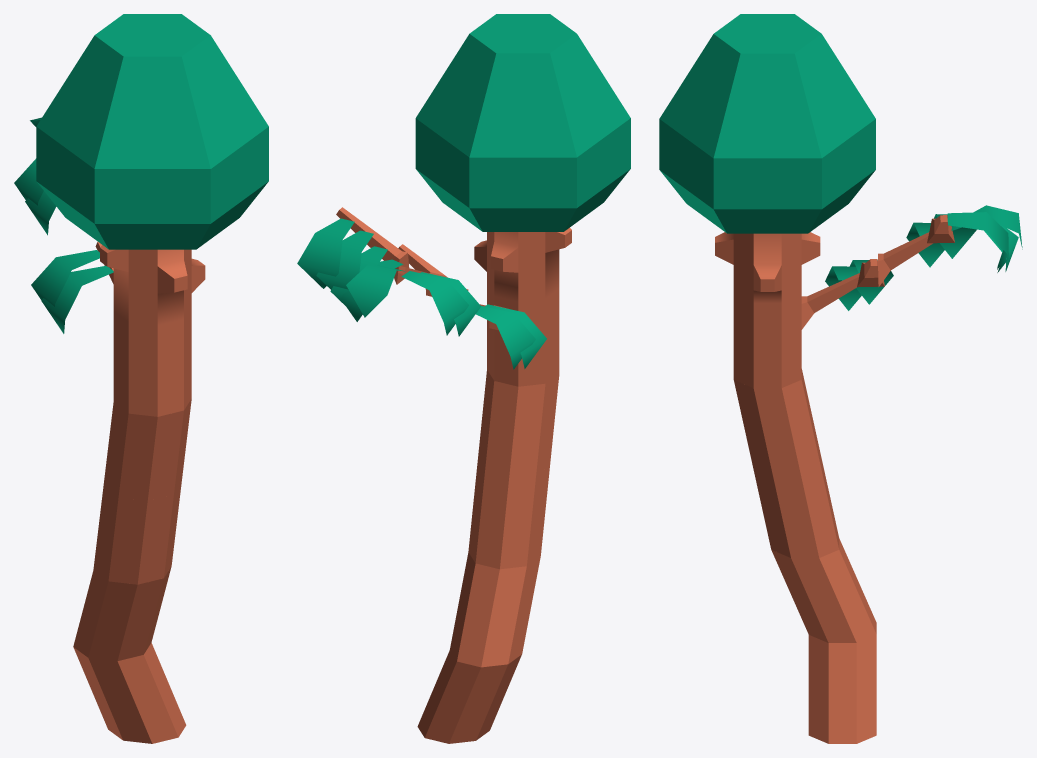
File: Tree.fbx
3 views of the same model, side by side, from view 1: azimuth 30°, elevation 25°; view 2: azimuth 150°, elevation 25°; view 3: azimuth 270°, elevation 25° (orthographic). The views are drawn at different scales.
Visible parts, largest first — view 1: mergedBlocks; view 2: mergedBlocks; view 3: mergedBlocks.
Part boxes in pixels (left/top/right/bottom): mergedBlocks: left=14, top=14, right=268, bottom=743; mergedBlocks: left=297, top=14, right=630, bottom=743; mergedBlocks: left=659, top=14, right=1022, bottom=743.
Size of the model in its own units: 11.6 by 40 by 19.36.
